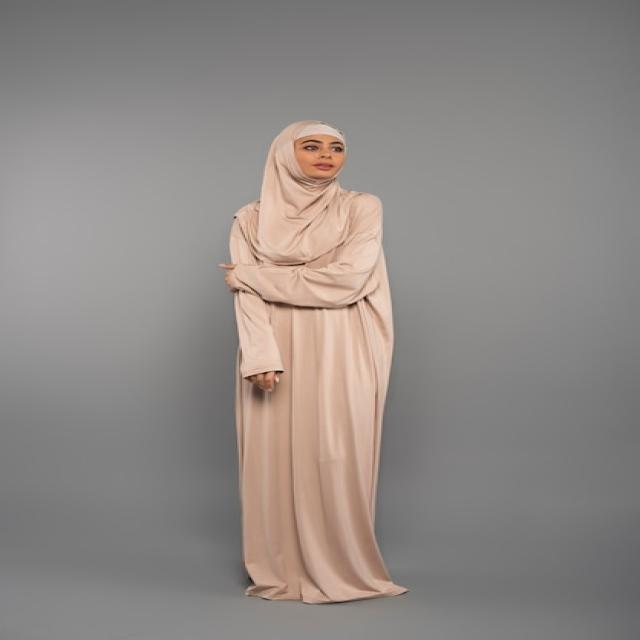Person: (222, 119, 412, 603)
